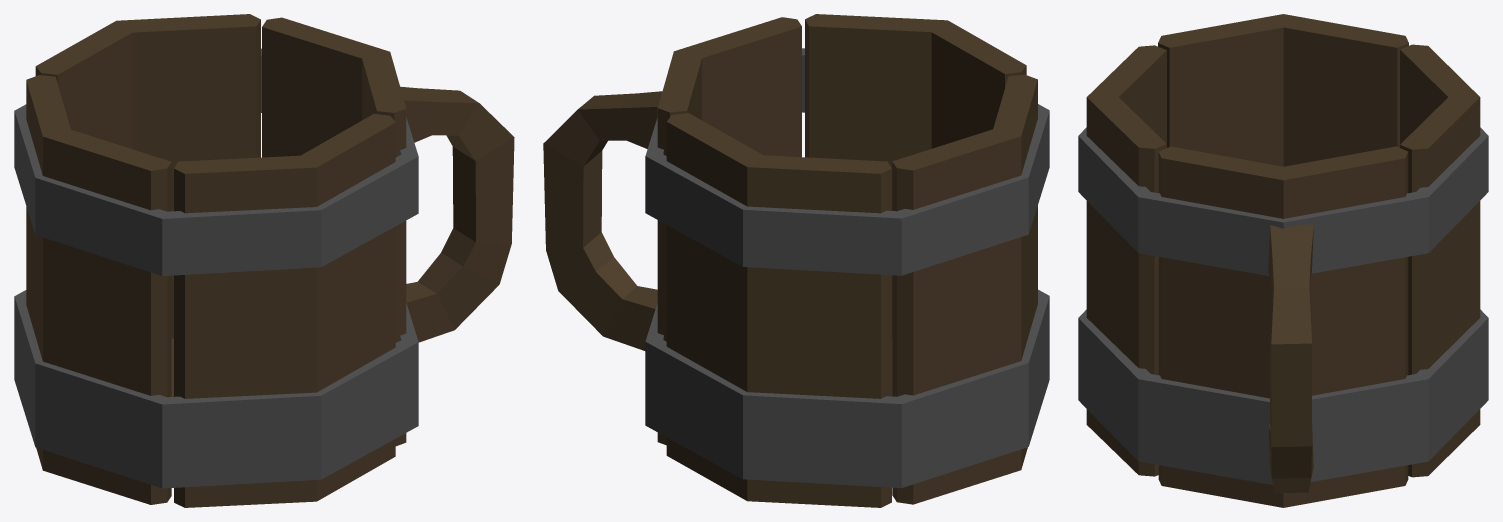
File: BeerMug_1.fbx
3 views of the same model, side by side, from view 1: azimuth 30°, elevation 25°; view 2: azimuth 150°, elevation 25°; view 3: azimuth 270°, elevation 25° (orthographic).
Parts seen in each view (by area): view 1: BeerMug_1; view 2: BeerMug_1; view 3: BeerMug_1.
Boxes of the visible parts, <box> form: BeerMug_1: <box>14,14,514,507</box>; BeerMug_1: <box>543,14,1049,507</box>; BeerMug_1: <box>1078,14,1488,507</box>.
Size of the model in its own units: 27.87 by 18.81 by 21.35.
